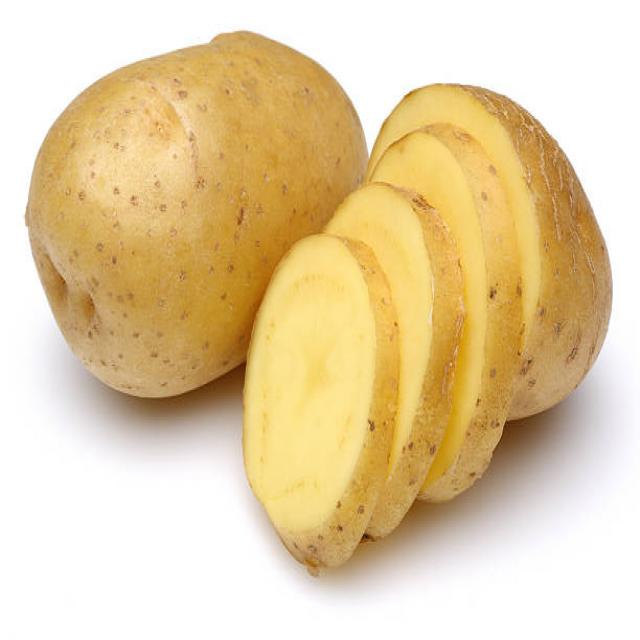potato: (393, 73, 615, 446), (30, 28, 237, 400)
